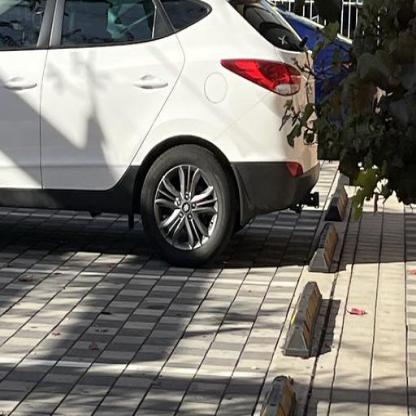Tire: (140, 145, 237, 267)
